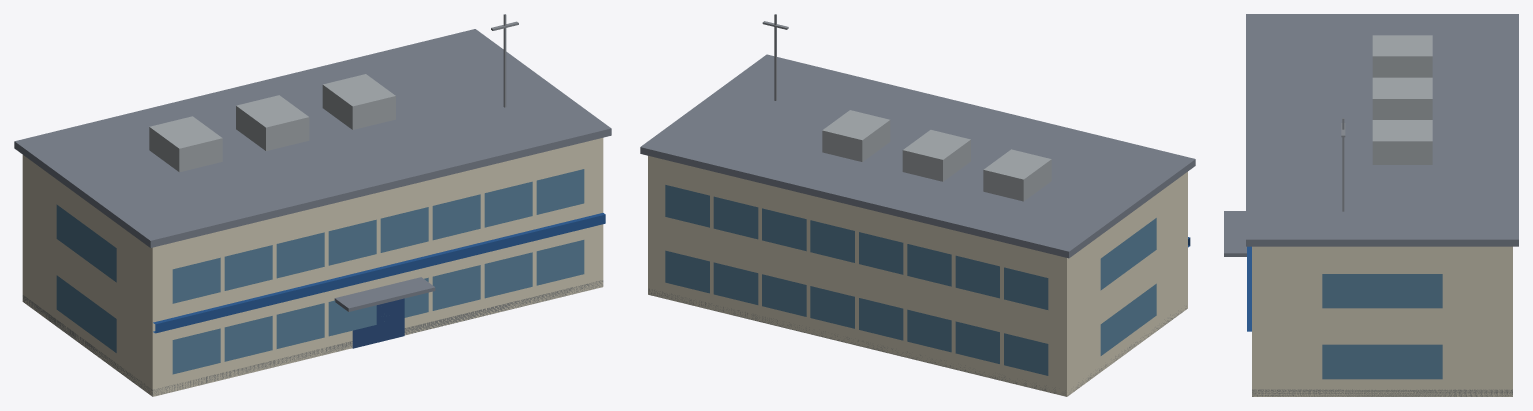
File: building-control.glb
3 views of the same model, side by side, from view 1: azimuth 30°, elevation 25°; view 2: azimuth 150°, elevation 25°; view 3: azimuth 270°, elevation 25° (orthographic). The views are drawn at different scales.
Parts seen in each view (by area): view 1: building; view 2: building; view 3: building.
Part boxes in pixels (x1,y1,x2,y2): building: (14,14,611,396); building: (640,14,1195,396); building: (1224,14,1518,396).
Bounding box in the file's own units: 26.6 × 13.9 × 14.7.
1 material, 1 textured.
